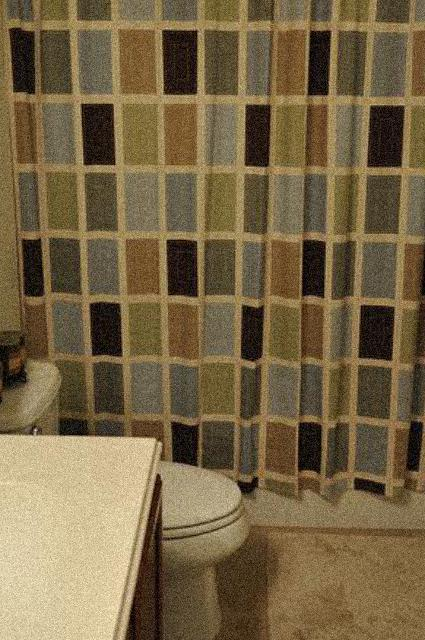Ducha: (6, 0, 425, 529)
Lavamanos: (0, 450, 94, 640)
Sanitario: (0, 319, 253, 640)
